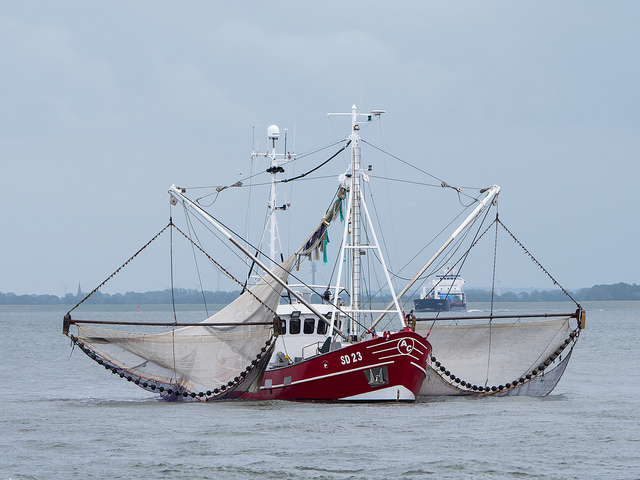fishing_boat: (63, 97, 578, 402)
